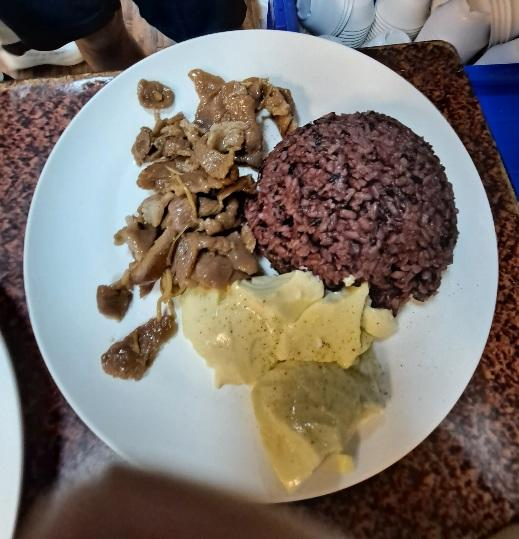big fried chicken leg: (18, 14, 514, 507)
braised fish: (247, 102, 464, 302)
braised fish fillet: (173, 270, 409, 491)
braised pork: (110, 59, 303, 294)
